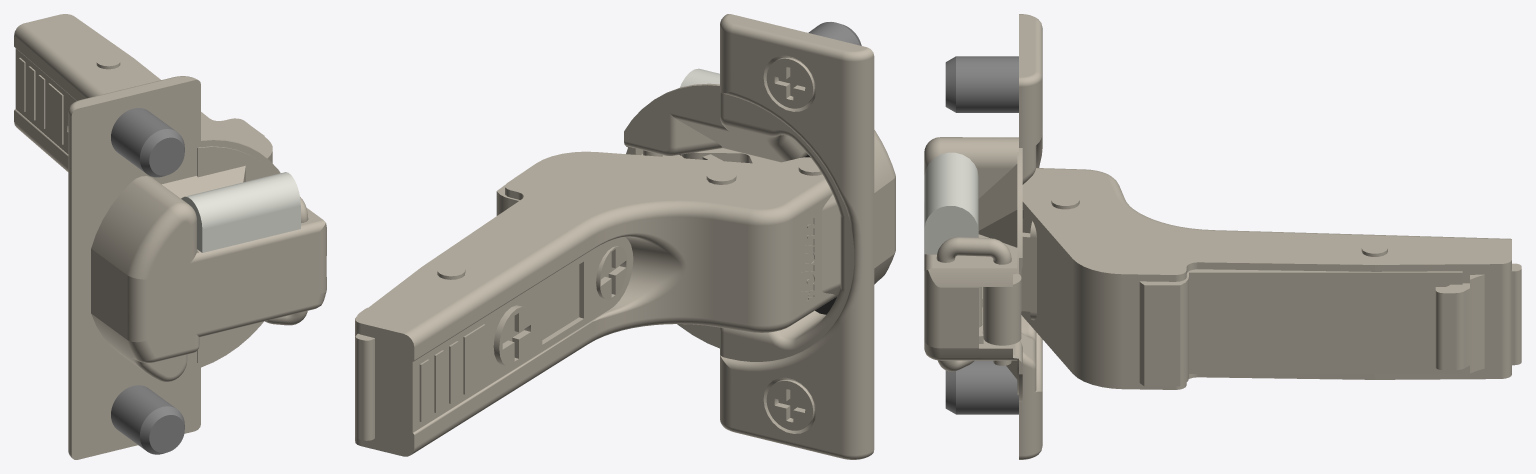
3 renders of one model, left to right at view 1: azimuth 30°, elevation 25°; view 2: azimuth 150°, elevation 25°; view 3: azimuth 270°, elevation 25°, orthographic. The views are drawn at different scales.
Parts seen in each view (by area): view 1: bau2460033743-1, bau2460703727-1, bau0059100308-1, bau0059100308-2; view 2: bau2460703727-1, bau2460033743-1, bau0059100308-1, bau0019426112-1, bau0059100308-2, bau2460023250-1; view 3: bau2460703727-1, bau0019426112-1, bau2460033743-1, bau0059100308-1, bau2460027380-1, bau0059100308-2.
Boxes of the visible parts, x1,y1,x2,y2 form: bau2460033743-1: (68,76,326,459); bau2460703727-1: (14,14,272,171); bau0059100308-1: (111,108,184,177); bau0059100308-2: (111,385,184,454); bau2460703727-1: (355,151,840,456); bau2460033743-1: (624,14,895,459); bau0059100308-1: (766,22,861,108); bau0019426112-1: (355,185,519,440); bau0059100308-2: (766,379,814,430); bau2460023250-1: (681,148,780,164); bau2460703727-1: (1021,168,1511,389); bau0019426112-1: (1139,263,1521,386); bau2460033743-1: (924,14,1042,459); bau0059100308-1: (945,56,1018,112); bau2460027380-1: (983,209,1036,345); bau0059100308-2: (945,360,1018,414).
Size of the model in its own units: 42.6 by 57 by 80.8.
